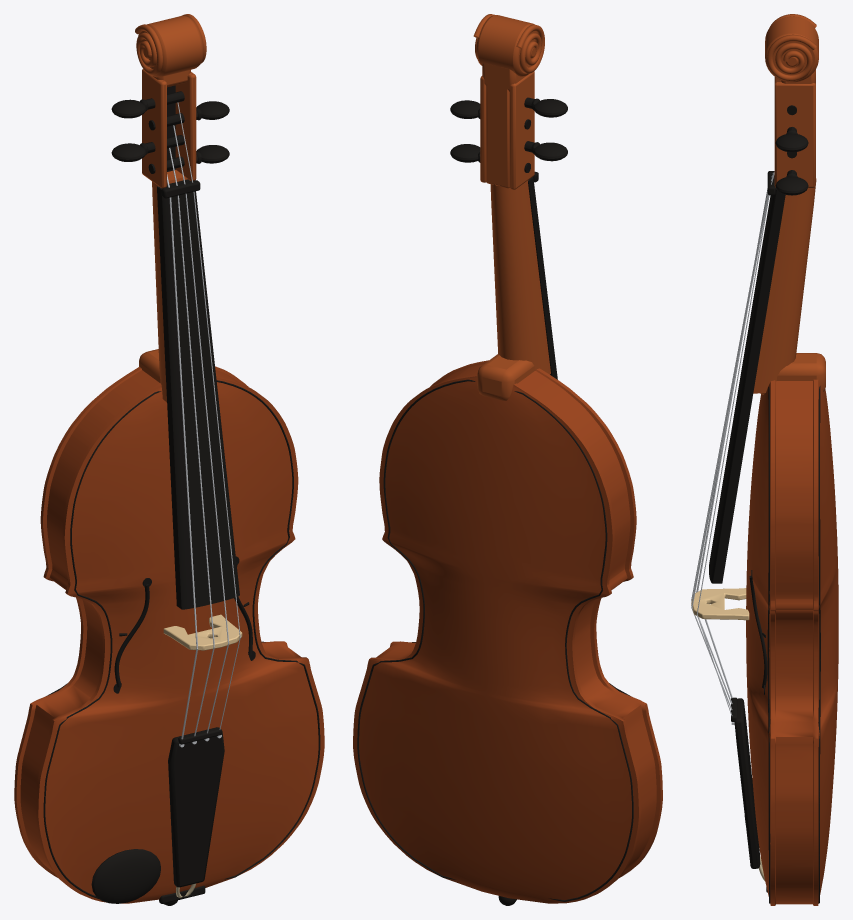
File: violin.glb
The picture shows the model from 3 angles, left to right: view 1: azimuth 30°, elevation 25°; view 2: azimuth 150°, elevation 25°; view 3: azimuth 270°, elevation 25°; orthographic projection.
Parts seen in each view (by area): view 1: violin; view 2: violin; view 3: violin.
Part boxes in pixels (x1,y1,x2,y2): violin: [14, 14, 324, 905]; violin: [353, 14, 662, 905]; violin: [691, 14, 838, 905].
Size of the model in its own units: 0.206 by 0.6081 by 0.0931.
